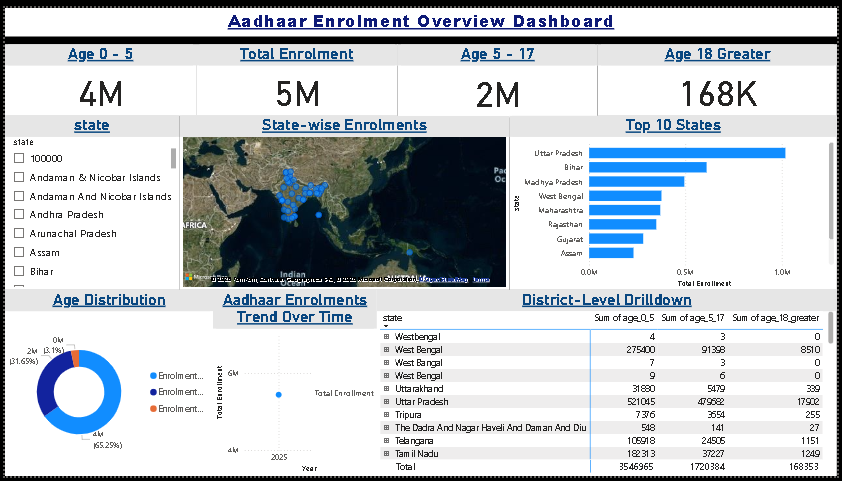

The dashboard page shown, as its layout file describes it:
{"tool":"powerbi","page":{"name":"Aadhaar Enrolment ","canvas":[1280,720],"ordinal":0},"visuals":[{"type":"card","title":"Total Enrolment","fields":{"Values":["Aadhaar_Enrolment_Fact.Total Enrollment"]},"box":[294,56,310,110],"z":0},{"type":"card","title":"Age 0 - 5","fields":{"Values":["Sum(Aadhaar_Enrolment_Fact.age_0_5)"]},"box":[0,56,294,110],"z":1},{"type":"card","title":"Age 18 Greater","fields":{"Values":["Sum(Aadhaar_Enrolment_Fact.age_18_greater)"]},"box":[912,56,368,110],"z":2},{"type":"card","title":"Age  5 - 17","fields":{"Values":["Sum(Aadhaar_Enrolment_Fact.age_5_17)"]},"box":[604,56,308,112],"z":3},{"type":"lineChart","title":"Aadhaar Enrolments Trend Over Time","fields":{"Category":["Aadhaar_Enrolment_Fact.date .Variation.Date Hierarchy.Year","Aadhaar_Enrolment_Fact.date .Variation.Date Hierarchy.Quarter","Aadhaar_Enrolment_Fact.date .Variation.Date Hierarchy.Month","Aadhaar_Enrolment_Fact.date .Variation.Date Hierarchy.Day"],"Y":["Aadhaar_Enrolment_Fact.Total Enrollment"]},"box":[320,434,252,286],"z":4},{"type":"map","title":"State-wise Enrolments","fields":{"Category":["Aadhaar_Enrolment_Fact.state"]},"box":[268,166,508,268],"z":5},{"type":"slicer","title":" state ","fields":{"Values":["Aadhaar_Enrolment_Fact.state"]},"box":[0,166,268,268],"z":6},{"type":"pivotTable","title":"District-Level Drilldown","fields":{"Rows":["Aadhaar_Enrolment_Fact.state","Aadhaar_Enrolment_Fact.district"],"Values":["Sum(Aadhaar_Enrolment_Fact.age_0_5)","Sum(Aadhaar_Enrolment_Fact.age_5_17)","Sum(Aadhaar_Enrolment_Fact.age_18_greater)"]},"box":[572,434,708,286],"z":7},{"type":"donutChart","title":"Age Distribution","fields":{"Y":["Aadhaar_Enrolment_Fact.Enrolments Age 0–5","Aadhaar_Enrolment_Fact.Enrolments Age 5–17","Aadhaar_Enrolment_Fact.Enrolments Age 18+"]},"box":[0,434,320,286],"z":8},{"type":"clusteredBarChart","title":"Top 10 States","fields":{"Category":["Aadhaar_Enrolment_Fact.state"],"Y":["Aadhaar_Enrolment_Fact.Total Enrollment"]},"box":[776,166,504,268],"z":9},{"type":"textbox","title":"Aadhaar Enrolment Overview Dashboard","box":[0,0,1280,44],"z":11}]}

Visuals, with their boxes in screenshot pixels (x1, y1, x2, y2), scaled from the page's 1280x720 canvas onto the 842x481 screenshot:
"Total Enrolment" card: left=193, top=37, right=397, bottom=111
"Age 0 - 5" card: left=0, top=37, right=193, bottom=111
"Age 18 Greater" card: left=600, top=37, right=841, bottom=111
"Age  5 - 17" card: left=397, top=37, right=600, bottom=112
"Aadhaar Enrolments Trend Over Time" lineChart: left=210, top=290, right=376, bottom=480
"State-wise Enrolments" map: left=176, top=111, right=510, bottom=290
" state " slicer: left=0, top=111, right=176, bottom=290
"District-Level Drilldown" pivotTable: left=376, top=290, right=841, bottom=480
"Age Distribution" donutChart: left=0, top=290, right=210, bottom=480
"Top 10 States" clusteredBarChart: left=510, top=111, right=841, bottom=290
"Aadhaar Enrolment Overview Dashboard" textbox: left=0, top=0, right=841, bottom=29
